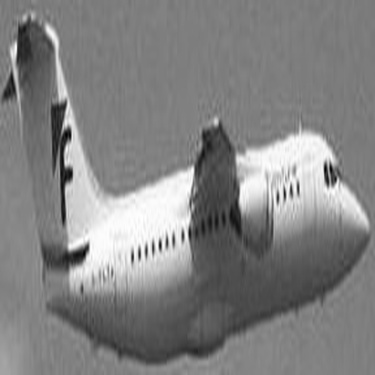airplane: (1, 2, 370, 370)
